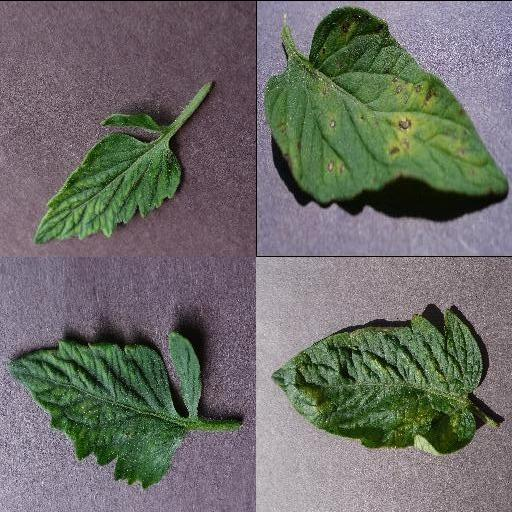Mosaic Virus: (7, 329, 203, 487), (32, 110, 182, 246)
Septoria: (264, 8, 508, 199)
Spider Mites: (269, 307, 483, 455)
